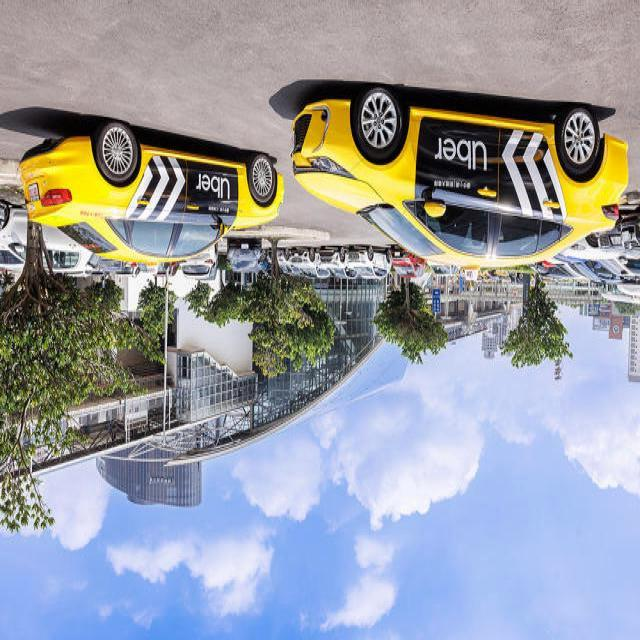taxi: (288, 78, 625, 287), (18, 114, 277, 283)
